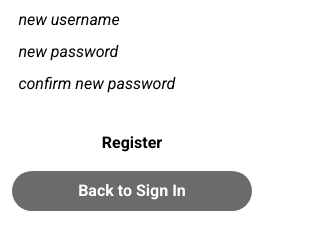
Test: CreateUser › checks for input error message on password mismatch
Type "password" into the password field named "register a new password" at (132, 52), box [12,36,252,68]
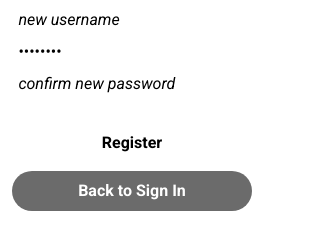
Type "pass" into the password field named "confirm your new password" at (132, 84), box [12,68,252,99]
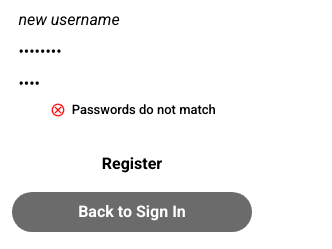
Expected: the text "Passwords do not match" is shown, [72,102,216,117]
